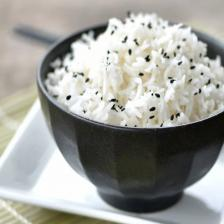rice: (45, 10, 224, 128)
